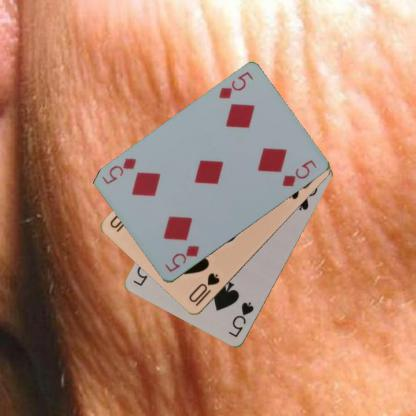10s: (186, 270, 221, 308)
5d: (162, 243, 200, 274), (216, 70, 254, 100)
5s: (226, 299, 256, 339)
